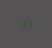one: (18, 20, 22, 28), (24, 20, 28, 27)
seven: (29, 19, 33, 27)
